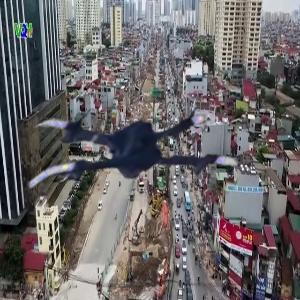drone: (25, 67, 235, 277)
